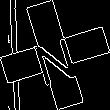N_N: (28, 25, 82, 85)
